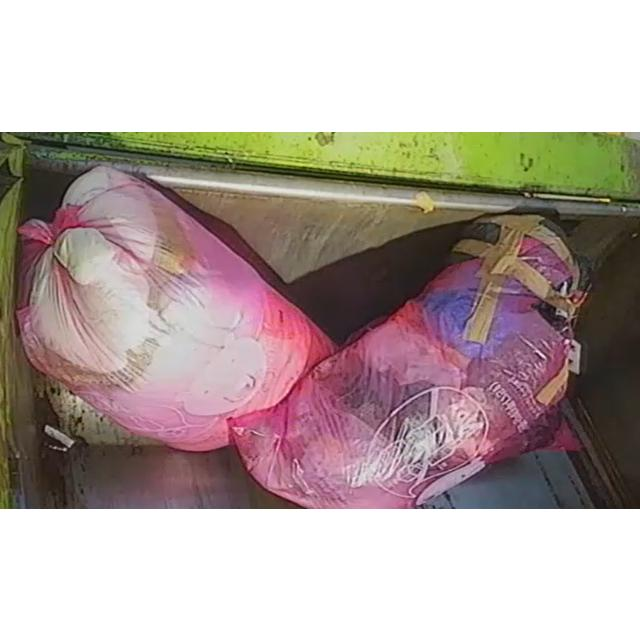other_trashbag: (230, 214, 585, 507), (18, 166, 334, 449)
